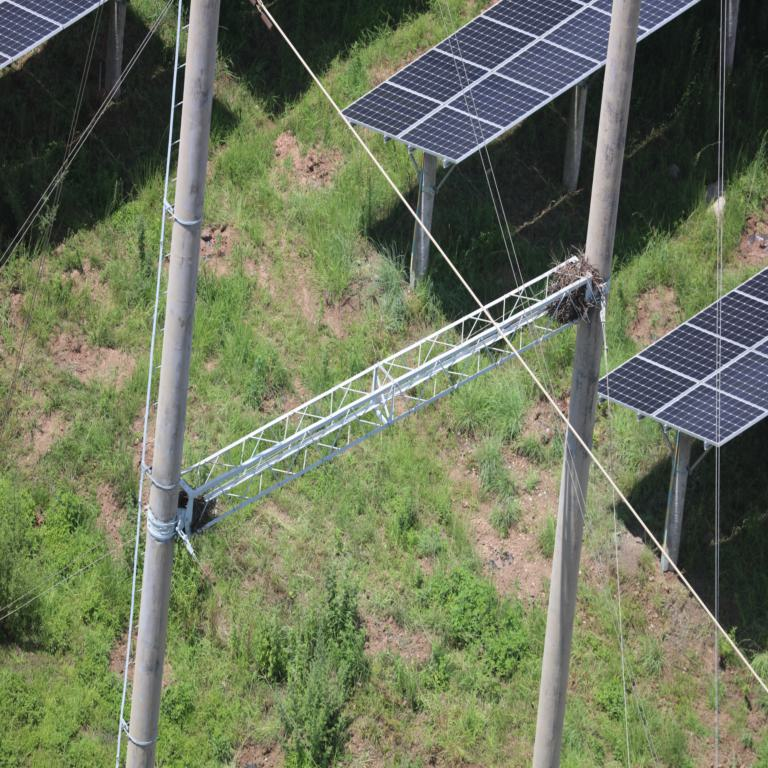nest: (546, 265, 594, 323), (178, 488, 216, 534)
